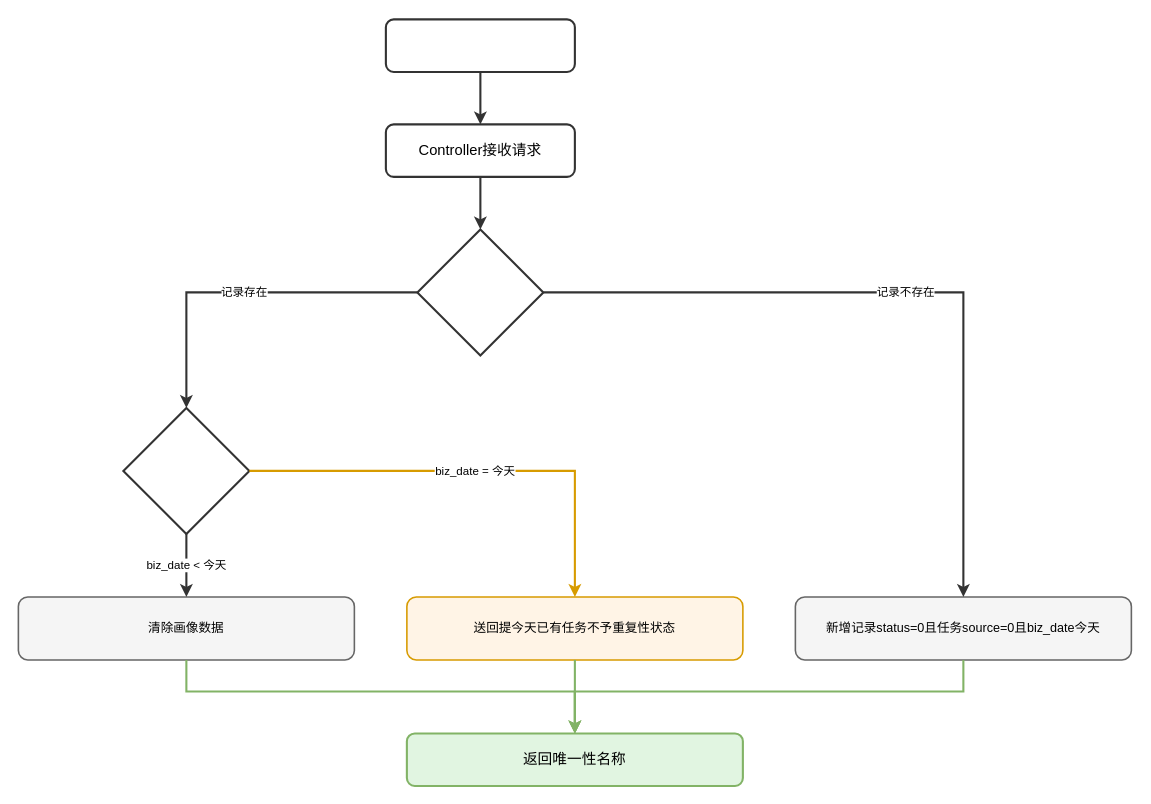
This 1151x804 diagram has some shape labels left out. Here are the shapes that lost their labels. From the top down, the box of each, then its label:
(384, 18, 575, 72): 用户全生命周期
(416, 228, 544, 356): 查询phone 记录
(122, 406, 250, 534): 判断 biz_date
